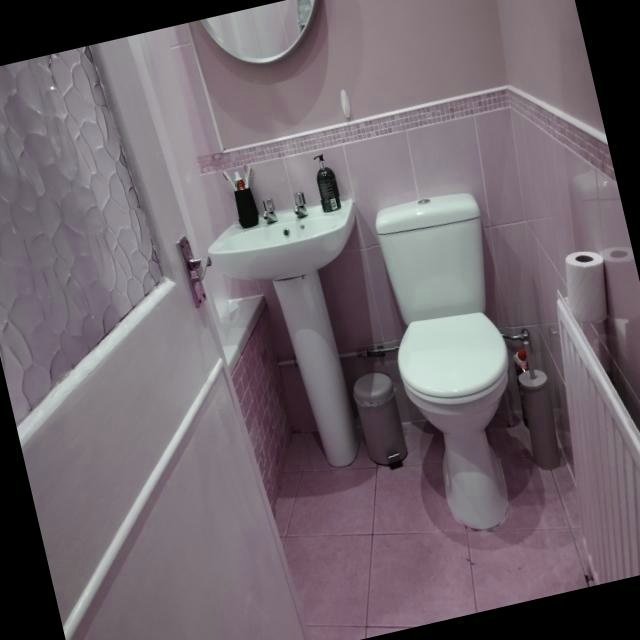bathtube: (225, 295, 290, 500)
table: (374, 193, 513, 532)
wardrobe: (209, 199, 359, 467)
